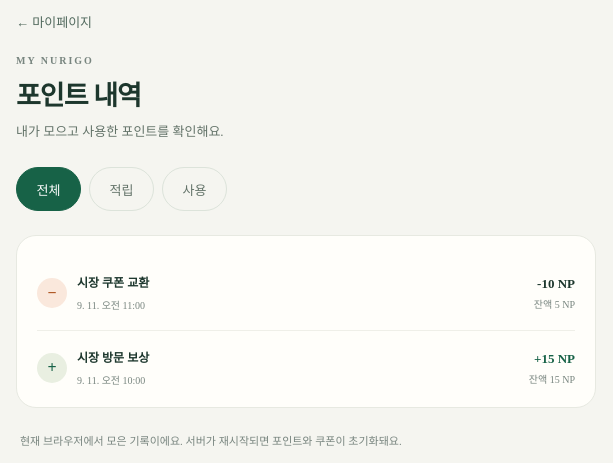
Test: 전체 내역에서 적립과 사용을 각각 확인한다
expect the text "시장 방문 보상" is shown: met, box [77,351,149,365]
Click the button "사용": [194, 189] box [162,167,227,211]
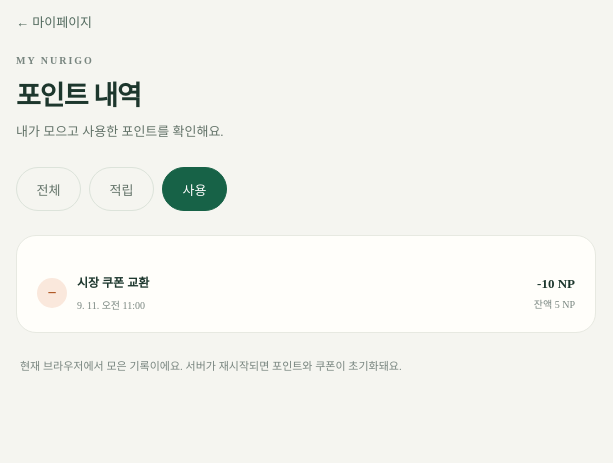
expect the text "시장 쿠폰 교환" is shown: met, box [77,276,149,290]
expect the text "시장 방문 보상" is gone: met
Click the button "적립": [122, 189] box [89,167,154,211]
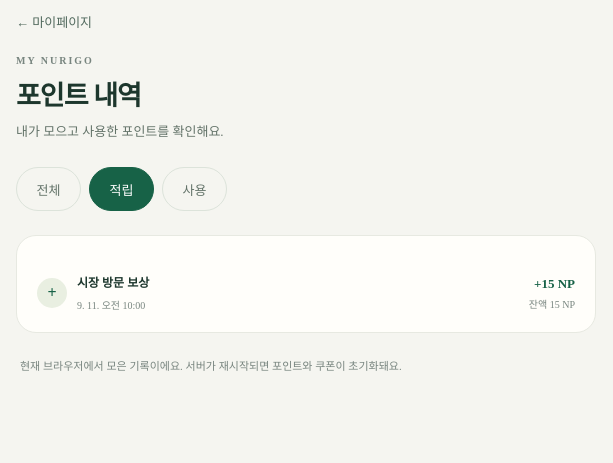
expect the text "시장 방문 보상" is shown: met, box [77,276,149,290]
expect the text "시장 쿠폰 교환" is gone: met
